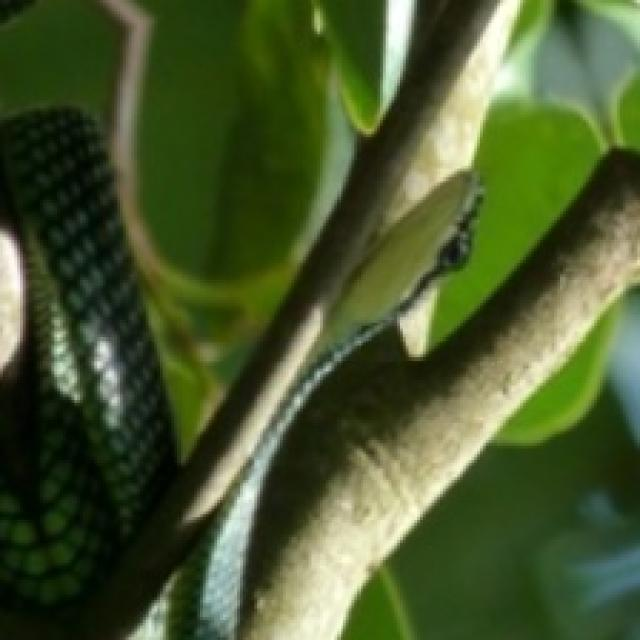paradise tree snake: (139, 171, 480, 640), (0, 109, 171, 603)
